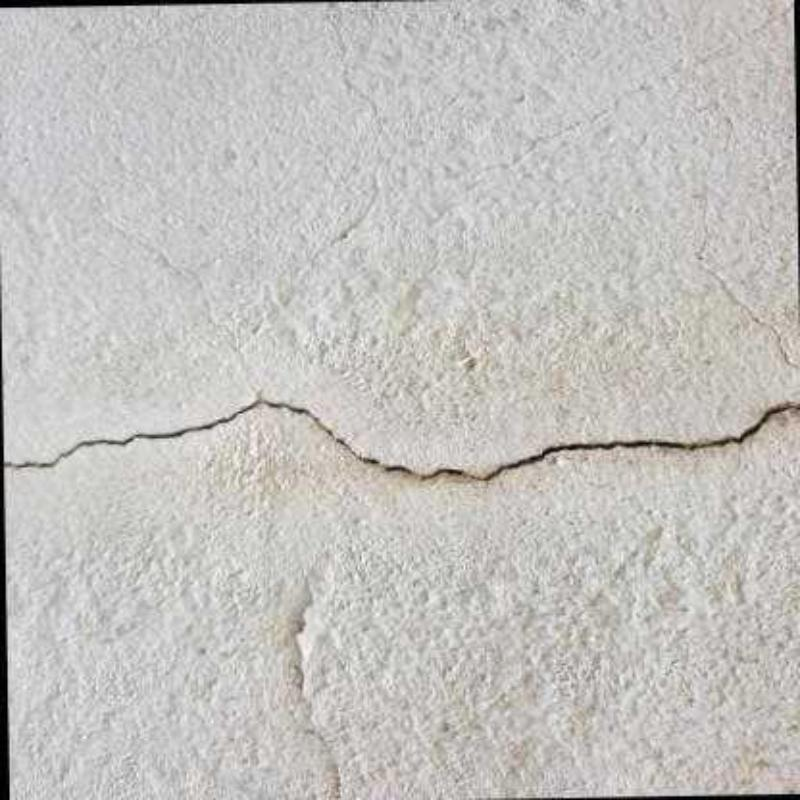pothole: (3, 402, 798, 480)
